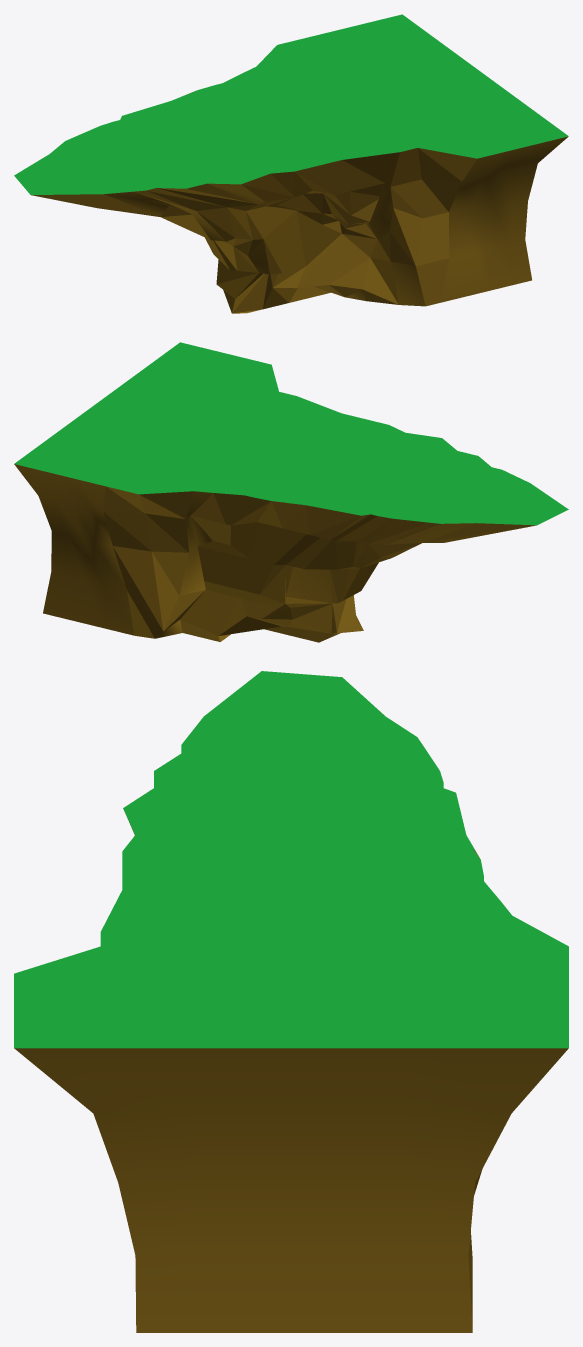
Rendered from Cliff.fbx.
3 views of the same model, one above another, from view 1: azimuth 30°, elevation 25°; view 2: azimuth 150°, elevation 25°; view 3: azimuth 270°, elevation 25° (orthographic). The views are drawn at different scales.
Visible parts, largest first — view 1: Box001; view 2: Box001; view 3: Box001.
Part boxes in pixels (left/top/right/bottom): Box001: left=14, top=14, right=568, bottom=313; Box001: left=14, top=342, right=568, bottom=642; Box001: left=14, top=671, right=568, bottom=1332.
Size of the model in its own units: 1108 by 390 by 689.
1 material, 1 textured.
